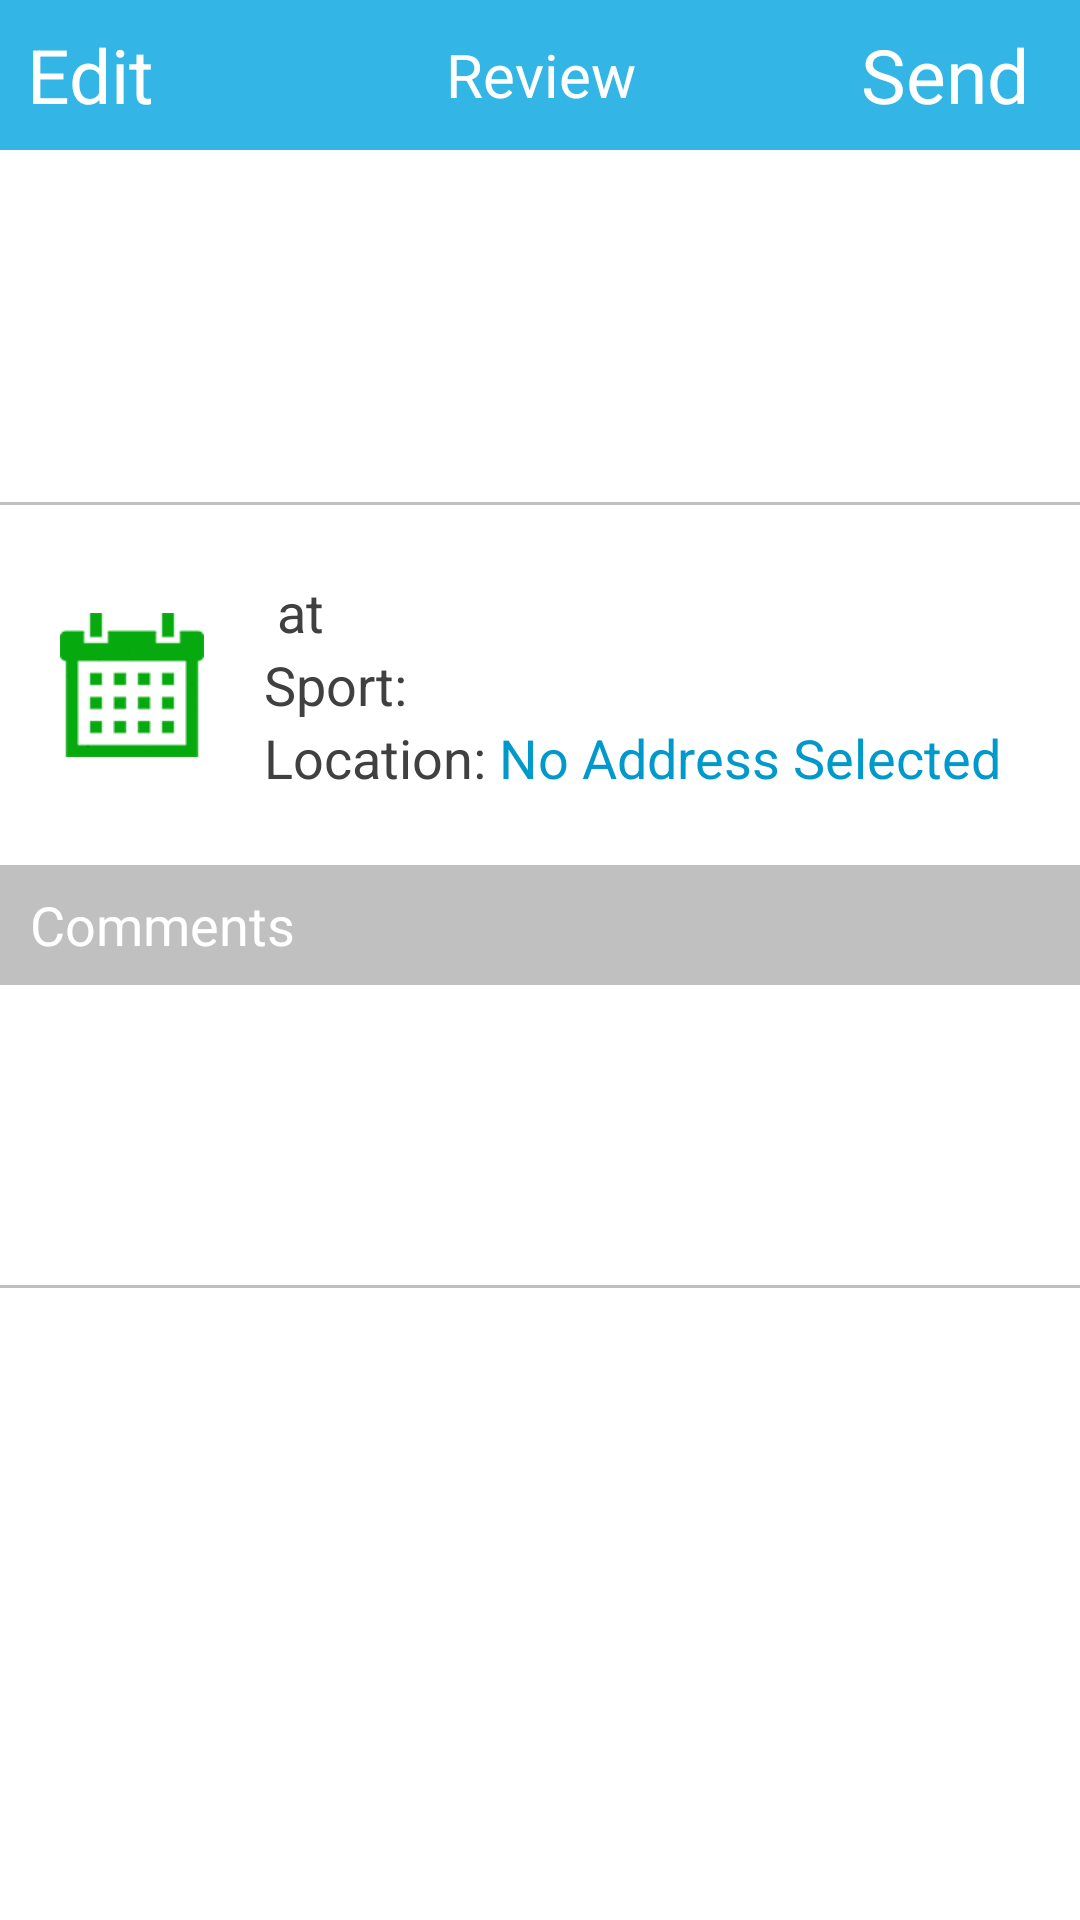

Screen size 1080 x 1920. Icon name, then its center in pixels as point (x, y):
calender: point (132, 685)
